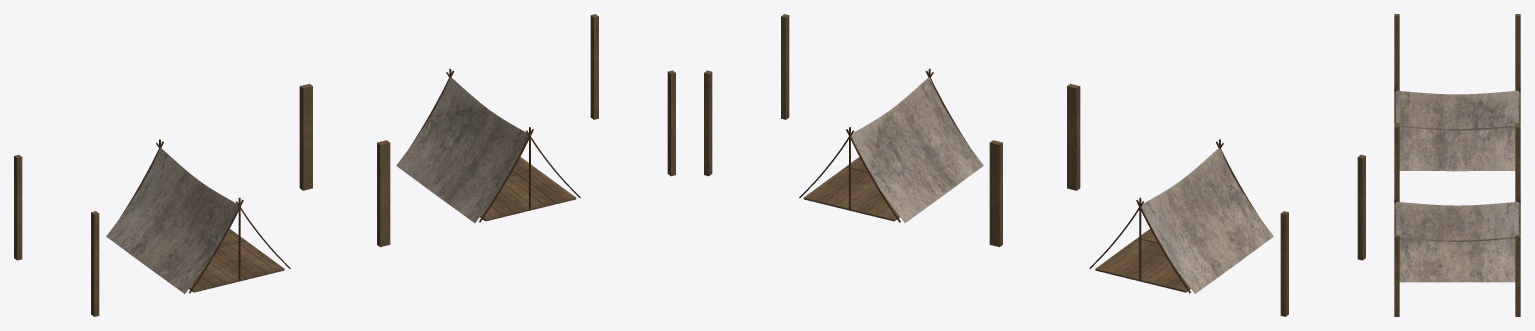
File: SM_tent_05.glb
The picture shows the model from 3 angles, left to right: view 1: azimuth 30°, elevation 25°; view 2: azimuth 150°, elevation 25°; view 3: azimuth 270°, elevation 25°; orthographic projection. The views are drawn at different scales.
Visible parts, largest first — view 1: SM_tent_05; view 2: SM_tent_05; view 3: SM_tent_05.
Part boxes in pixels (<box>): SM_tent_05: <box>14,14,675,316</box>; SM_tent_05: <box>704,14,1365,316</box>; SM_tent_05: <box>1394,14,1520,316</box>.
Size of the model in its own units: 14.82 by 2.5 by 3.56.
2 materials, 2 textured.
